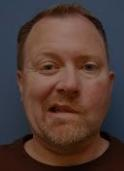strokeEyeWeak: (33, 49, 102, 77)
strokeMouthWeak: (43, 101, 83, 118)
